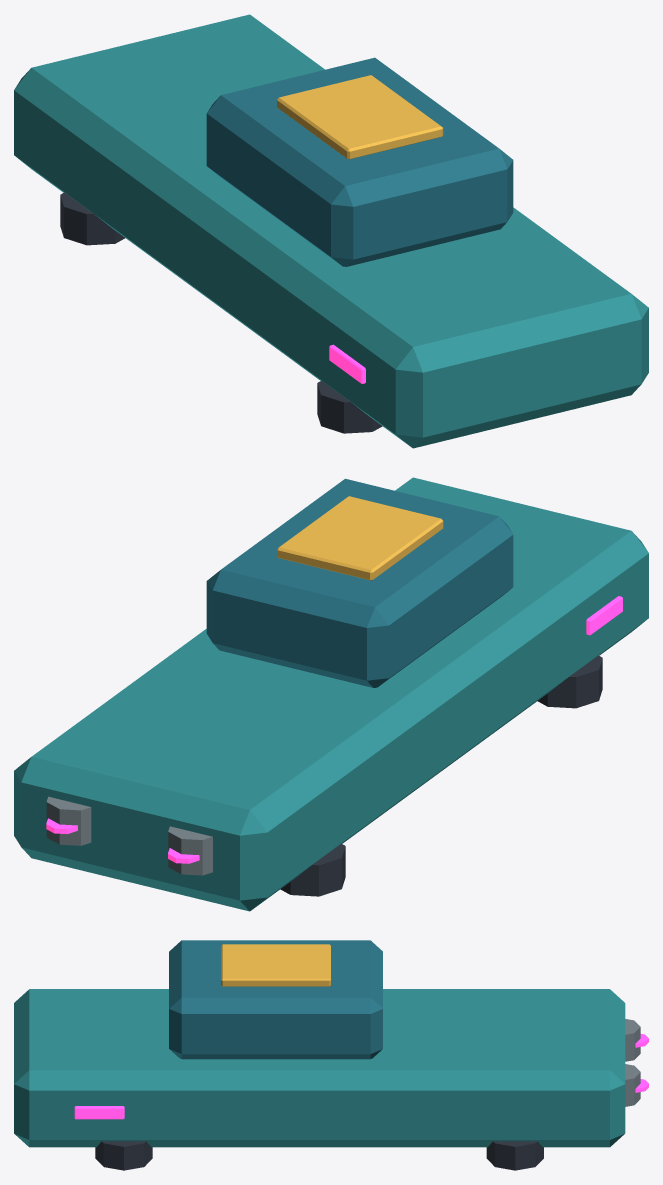
File: vehicles_037_seed11.glb
3 views of the same model, one above another, from view 1: azimuth 30°, elevation 25°; view 2: azimuth 150°, elevation 25°; view 3: azimuth 270°, elevation 25° (orthographic). The views are drawn at different scales.
Visible parts, largest first — view 1: vehicles_037_seed11; view 2: vehicles_037_seed11; view 3: vehicles_037_seed11.
Boxes of the visible parts, left/top/right/bottom form: vehicles_037_seed11: left=14, top=14, right=648, bottom=448; vehicles_037_seed11: left=14, top=477, right=648, bottom=911; vehicles_037_seed11: left=14, top=940, right=648, bottom=1170.
Bounding box in the file's own units: 2.05 × 1.49 × 5.33.
